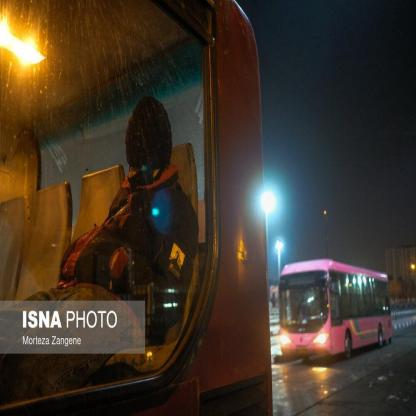Bus: (275, 259, 395, 362)
